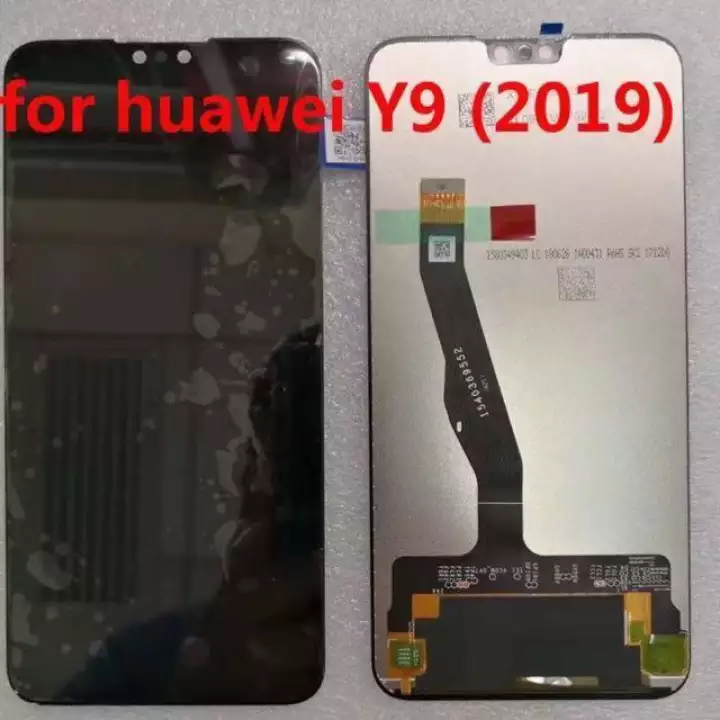Phone: (361, 30, 694, 705), (1, 35, 331, 711)
